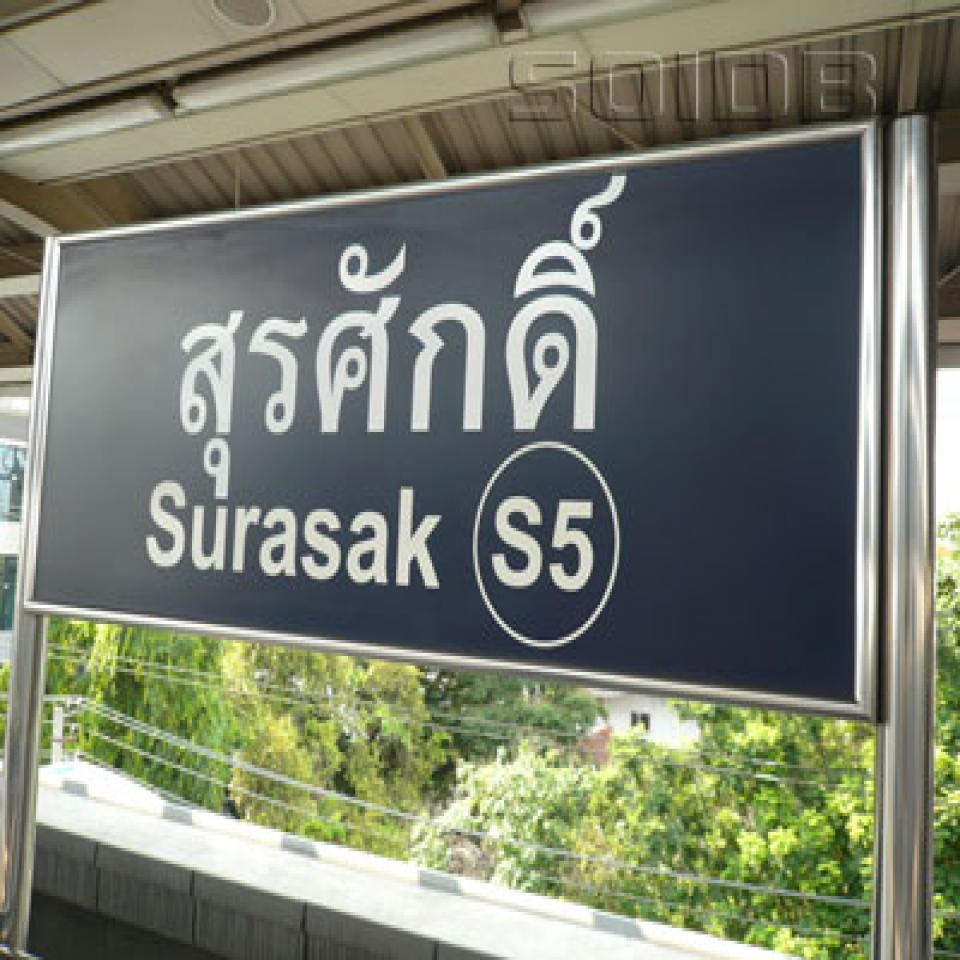Surasak: (20, 113, 885, 724)
